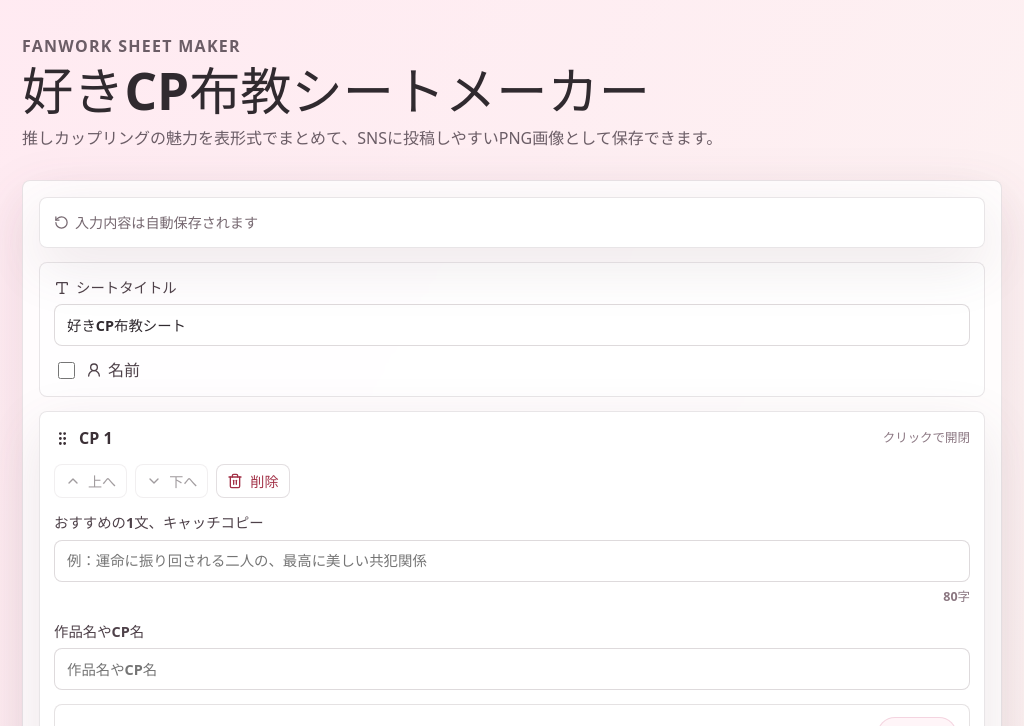
Scenario: App layout › shows the creator name input only after the name checkbox is enabled
Expected: the field labelled "名前やアカウント名" is not shown
Click the checkbox labelled "名前".
click(66, 370)  # box [58,362,75,379]
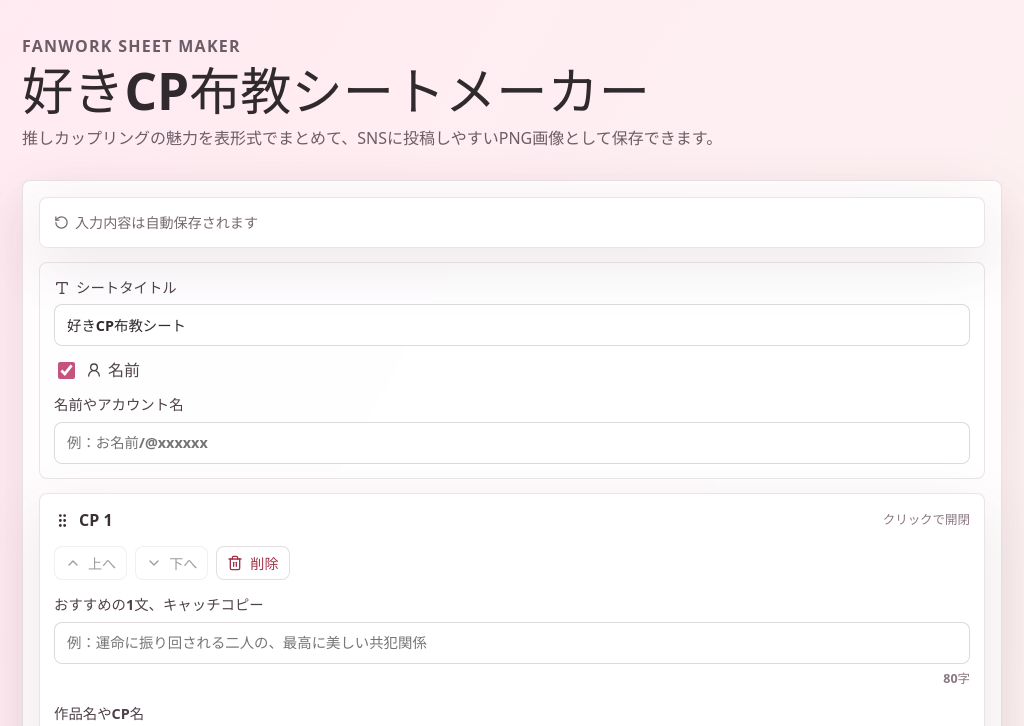
Result: the field labelled "名前やアカウント名" is shown at [54,422,970,464]
